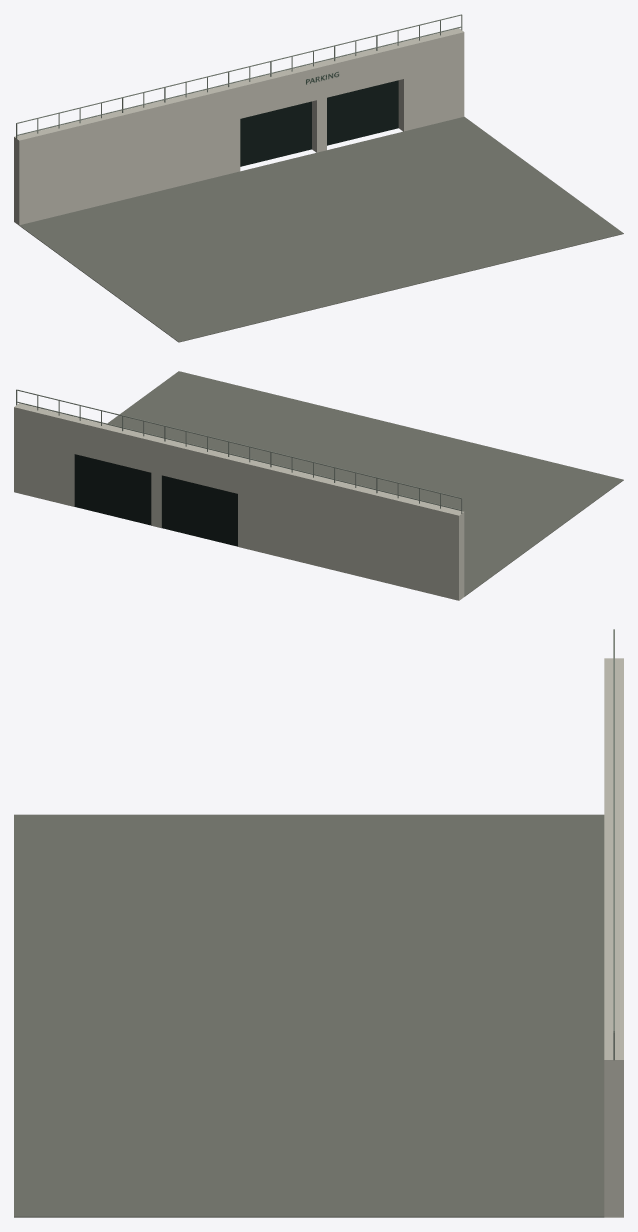
The model's file is parking.glb.
3 views of the same model, one above another, from view 1: azimuth 30°, elevation 25°; view 2: azimuth 150°, elevation 25°; view 3: azimuth 270°, elevation 25° (orthographic). The views are drawn at different scales.
Parts seen in each view (by area): view 1: 지하주차장; view 2: 지하주차장; view 3: 지하주차장.
Boxes of the visible parts, box(x1,y1,x2,y2) form: 지하주차장: box(14, 14, 623, 342); 지하주차장: box(14, 371, 623, 600); 지하주차장: box(14, 629, 623, 1217).
Bounding box in the file's own units: 29.05 × 6.27 × 18.6.
Materials: 5 (1 with a texture image).
